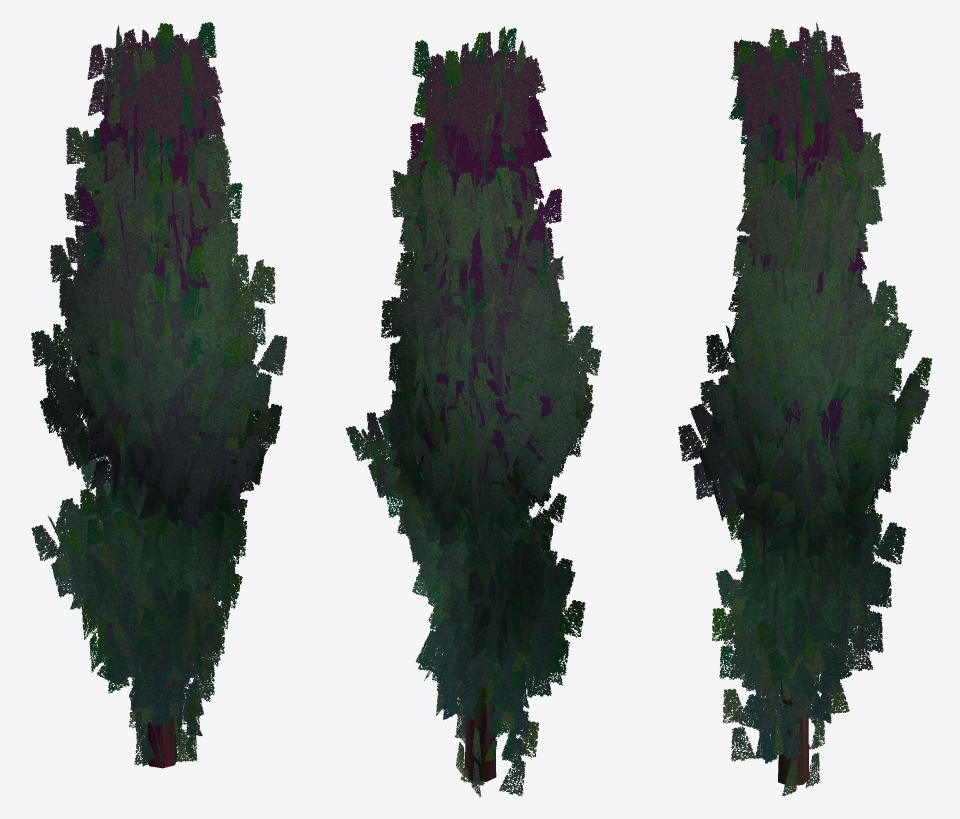
Rendered from nat_cypress_b_LOD0.glb.
3 renders of one model, left to right at view 1: azimuth 30°, elevation 25°; view 2: azimuth 150°, elevation 25°; view 3: azimuth 270°, elevation 25°, orthographic.
Visible parts, largest first — view 1: nat_cypress_b_LOD0; view 2: nat_cypress_b_LOD0; view 3: nat_cypress_b_LOD0.
Part boxes in pixels (box(x1,y1,x2,y2)): nat_cypress_b_LOD0: box(31, 22, 287, 768); nat_cypress_b_LOD0: box(345, 26, 601, 797); nat_cypress_b_LOD0: box(678, 22, 932, 796).
Bounding box in the file's own units: 2.94 × 7.97 × 2.84.
2 materials, 2 textured.
